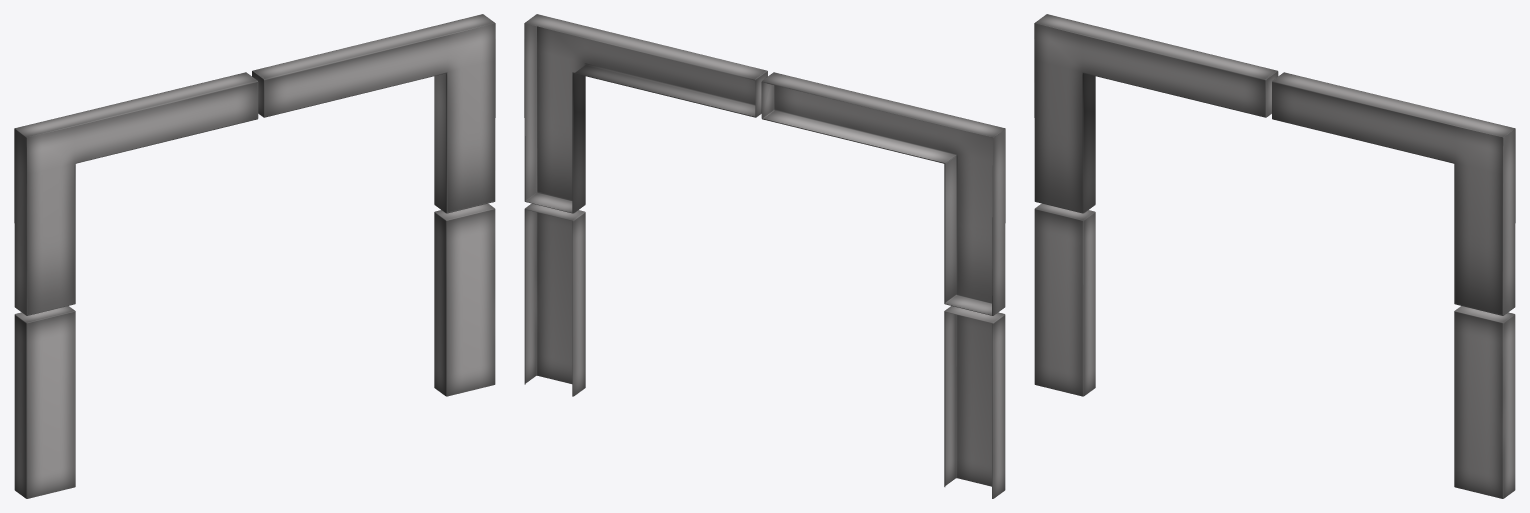
File: DoorFrameLight01_3.FBX
3 views of the same model, side by side, from view 1: azimuth 30°, elevation 25°; view 2: azimuth 150°, elevation 25°; view 3: azimuth 330°, elevation 25° (orthographic).
Parts seen in each view (by area): view 1: Doorway01; view 2: Doorway01; view 3: Doorway01.
Part boxes in pixels (x1,y1,x2,y2): Doorway01: [14, 14, 495, 498]; Doorway01: [524, 14, 1005, 498]; Doorway01: [1034, 14, 1515, 498].
Bounding box in the file's own units: 380 × 280 × 17.5.
